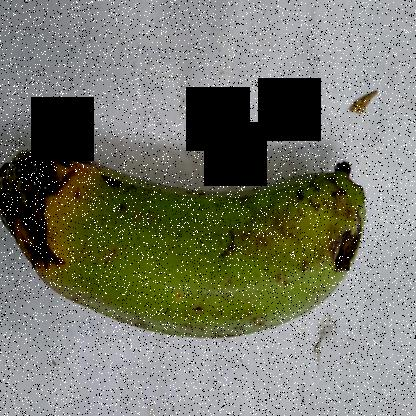unripe: (80, 133, 373, 366)
